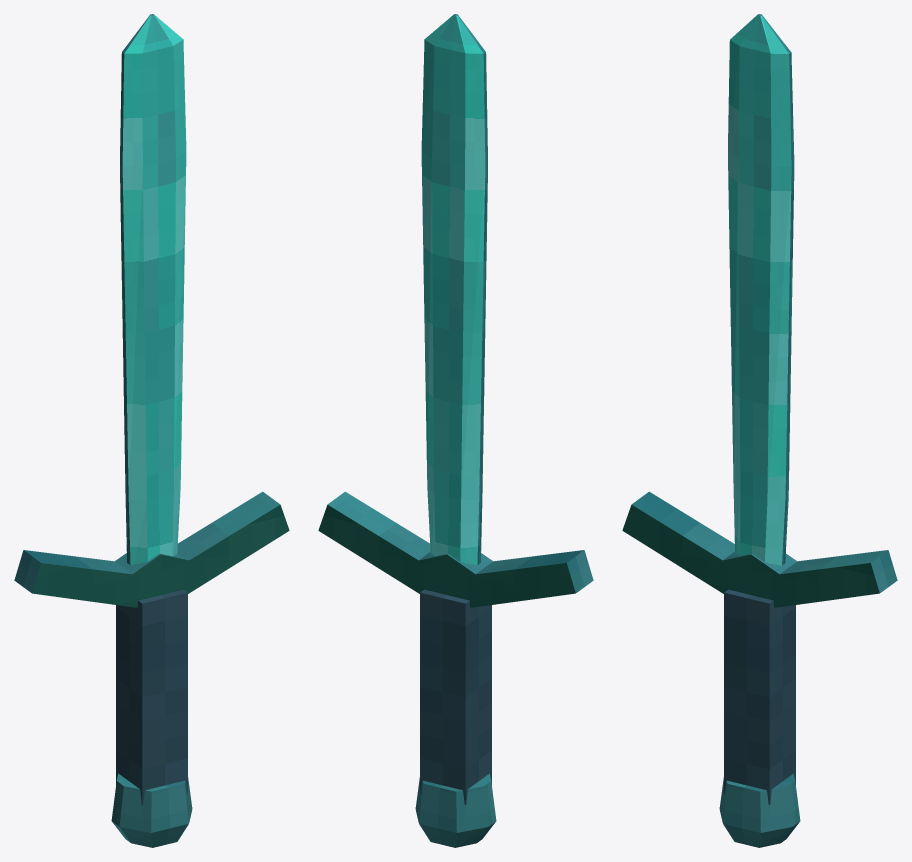
The model's file is cutout.obj.
3 views of the same model, side by side, from view 1: azimuth 30°, elevation 25°; view 2: azimuth 150°, elevation 25°; view 3: azimuth 330°, elevation 25° (orthographic).
Size of the model in its own units: 0.7062 by 2.15 by 0.172.
